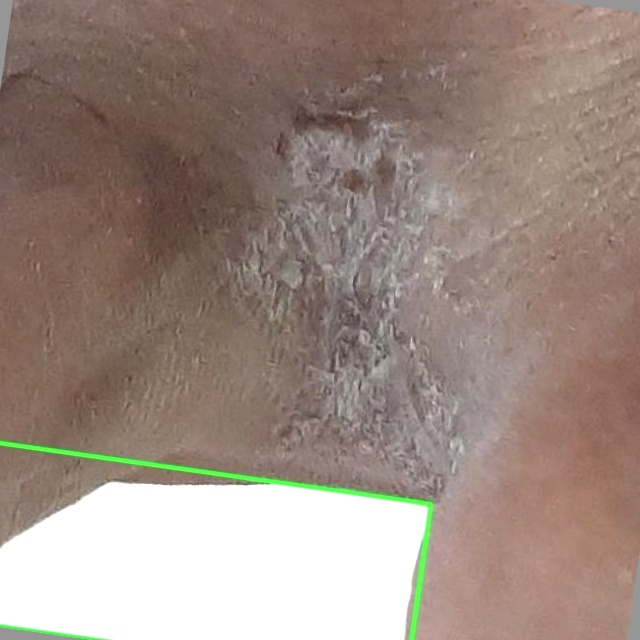Contact Dermatitis: (0, 443, 430, 639)
